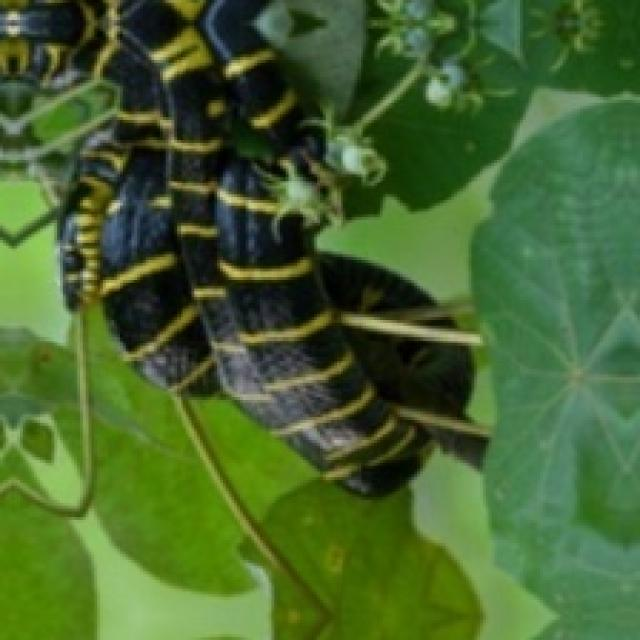mangrove cat snake: (0, 0, 486, 494), (60, 0, 486, 494)
